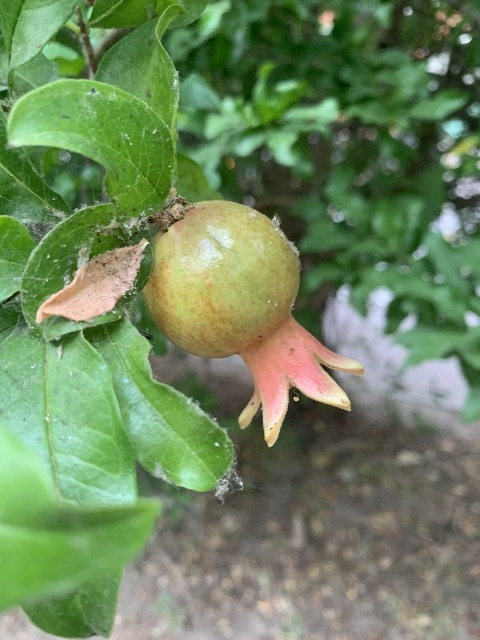mid-growth: (145, 200, 363, 446)
